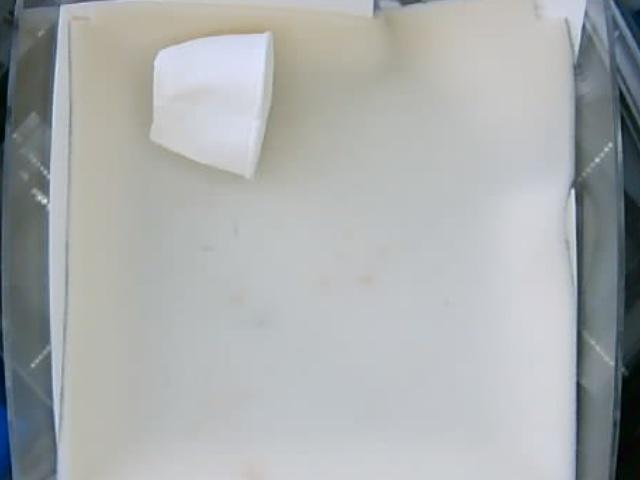Cup: (148, 31, 275, 180)
